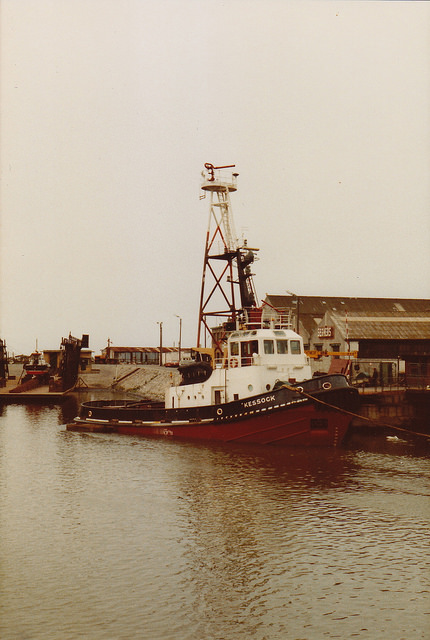tug_boat: (70, 259, 358, 439)
